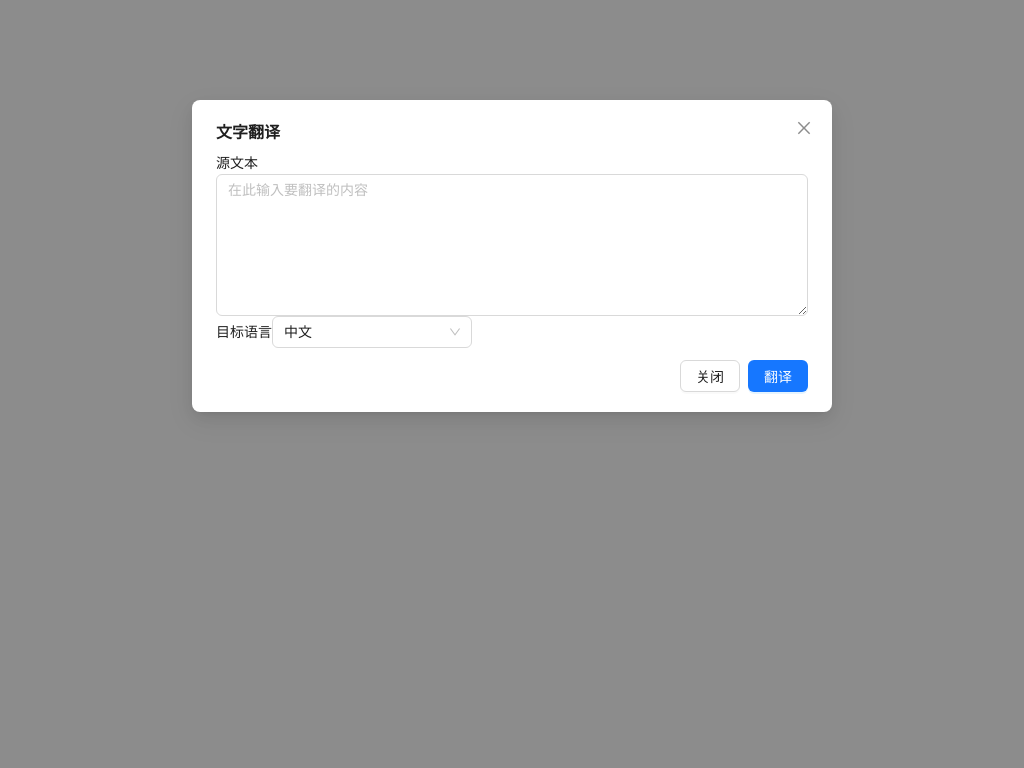
文字翻译面板 › 已配置服务时经主进程安全通道翻译并展示结果
The width and height of the screenshot is (1024, 768).
Type "你好" into the text box with placeholder "在此输入要翻译的内容" at (512, 245), box [216,174,808,316]
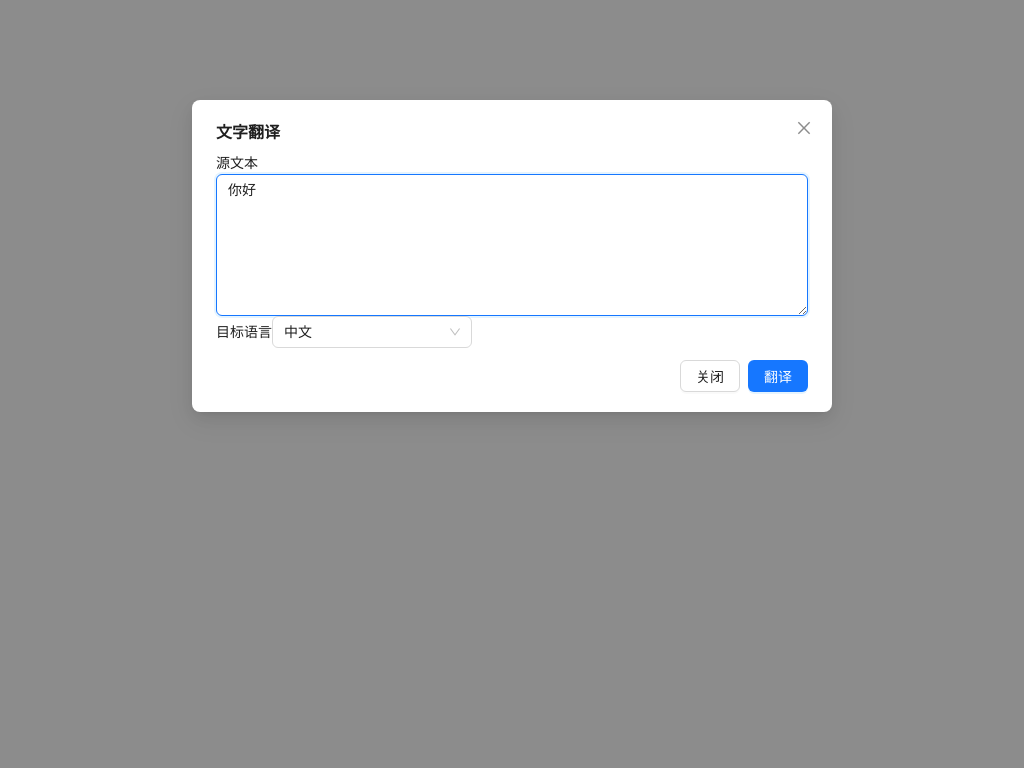
Click the button "翻译" at (778, 376), box [748,360,808,392]
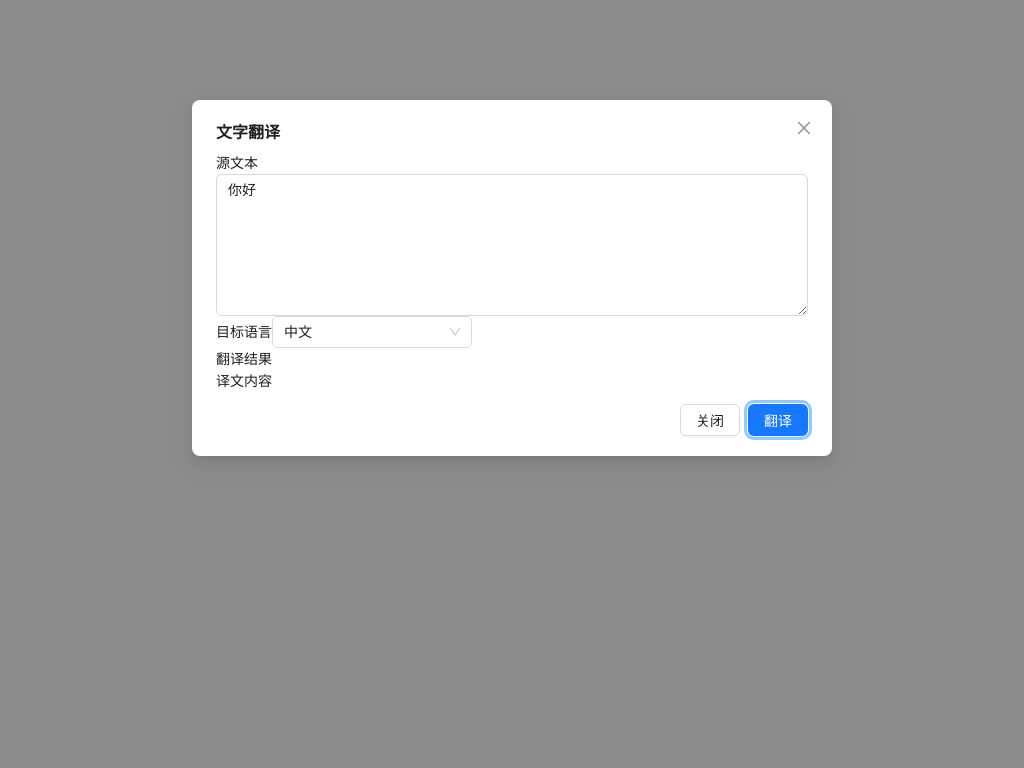
Now the text "译文内容" is shown, box [216,372,272,389]
